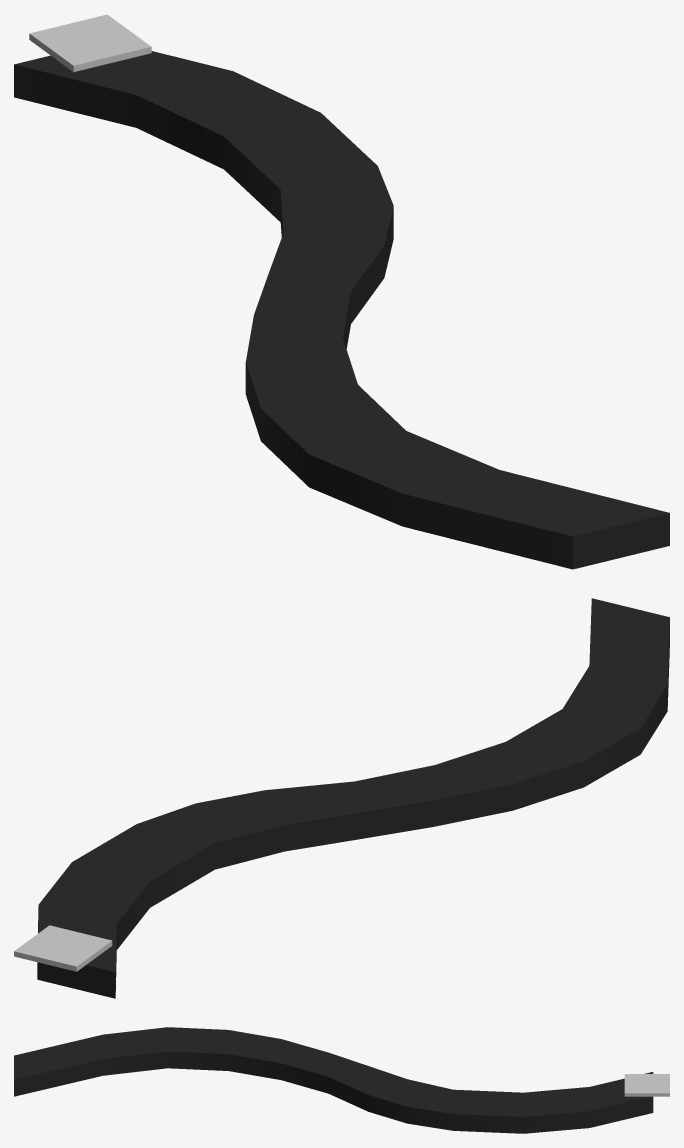
The picture shows the model from 3 angles, top to bottom: view 1: azimuth 30°, elevation 25°; view 2: azimuth 150°, elevation 25°; view 3: azimuth 270°, elevation 25°; orthographic projection. The views are drawn at different scales.
Parts seen in each view (by area): view 1: road1; view 2: road1; view 3: road1.
Boxes of the visible parts, left/top/right/bottom form: road1: left=14, top=14, right=669, bottom=569; road1: left=14, top=598, right=669, bottom=998; road1: left=14, top=1027, right=669, bottom=1133.
Bounding box in the file's own units: 768 × 90.29 × 2371.
